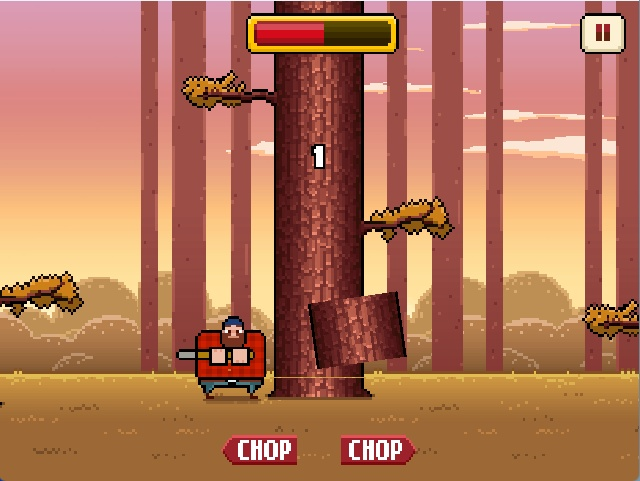left_obs: (175, 63, 283, 121)
right_obs: (354, 184, 466, 256)
timberman: (172, 306, 275, 408)
